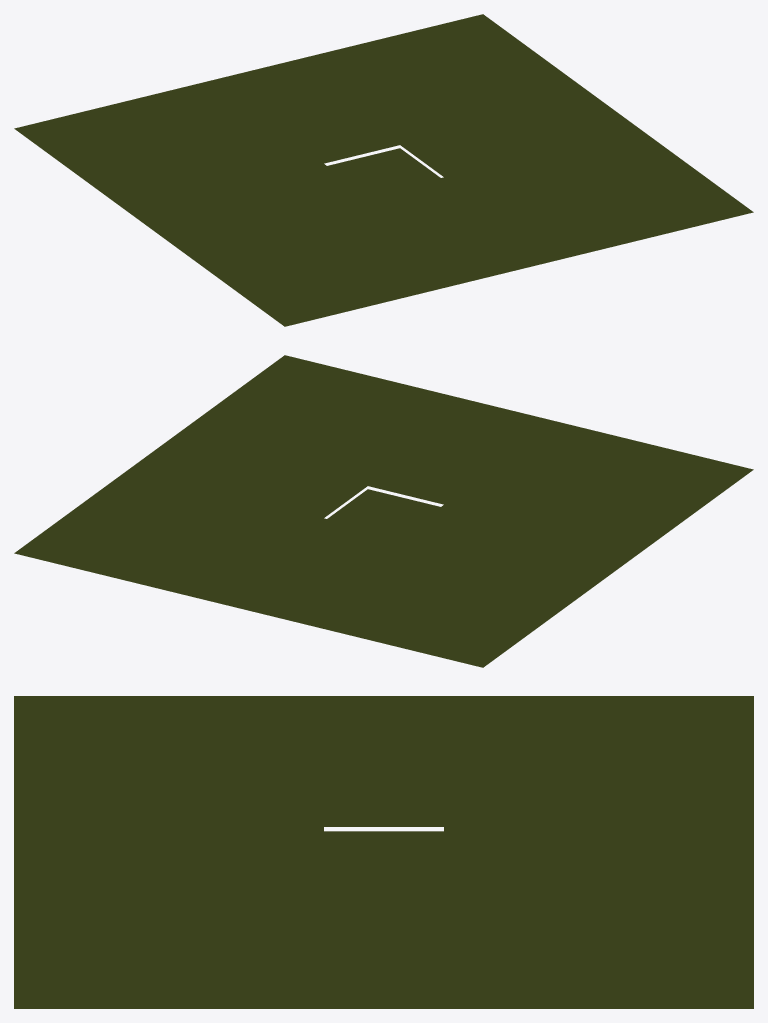
The model's file is BGgrass.fbx.
3 views of the same model, one above another, from view 1: azimuth 30°, elevation 25°; view 2: azimuth 150°, elevation 25°; view 3: azimuth 270°, elevation 25° (orthographic). The views are drawn at different scales.
Visible parts, largest first — view 1: Plane; view 2: Plane; view 3: Plane.
Part boxes in pixels (<box>): Plane: <box>14,14,753,326</box>; Plane: <box>14,355,753,667</box>; Plane: <box>14,696,753,1008</box>.
Size of the model in its own units: 80 by 0.5 by 80.
